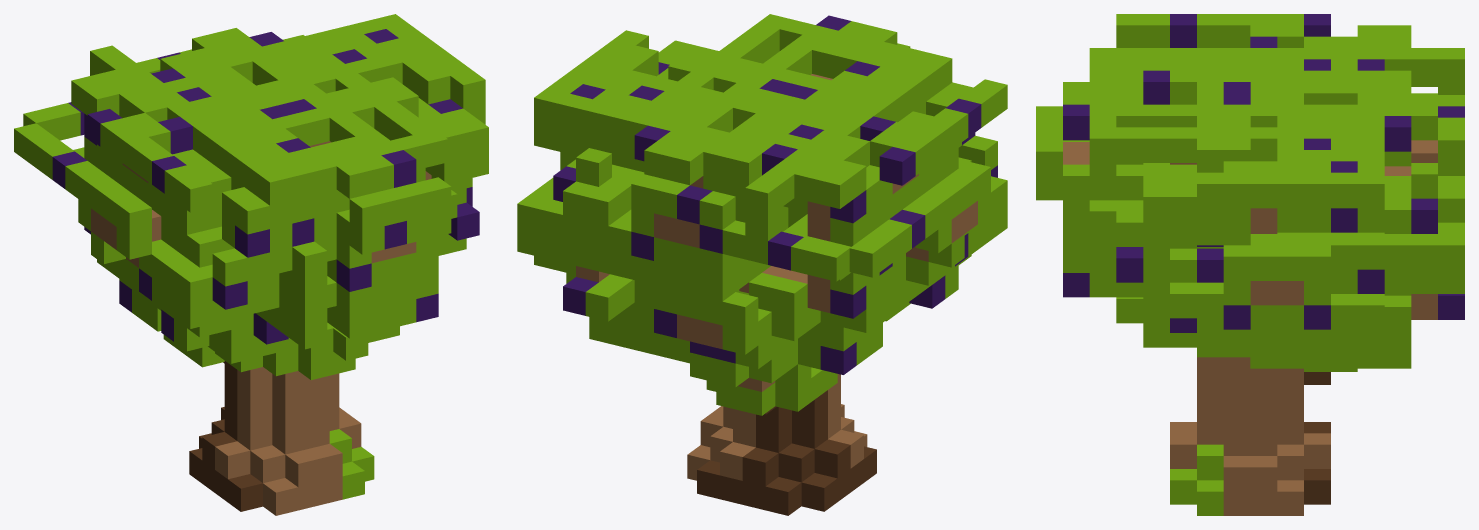
File: Sietecueros_Fabian_Andres_Cetina_Rabon_fase_3.obj
3 views of the same model, side by side, from view 1: azimuth 30°, elevation 25°; view 2: azimuth 150°, elevation 25°; view 3: azimuth 270°, elevation 25° (orthographic). The views are drawn at different scales.
Parts seen in each view (by area): view 1: Sietecueros_Fabian_Andres_Cetina_Rabon_fase_3; view 2: Sietecueros_Fabian_Andres_Cetina_Rabon_fase_3; view 3: Sietecueros_Fabian_Andres_Cetina_Rabon_fase_3.
Part boxes in pixels (x1=…): Sietecueros_Fabian_Andres_Cetina_Rabon_fase_3: x1=14, y1=14, x2=488, y2=515; Sietecueros_Fabian_Andres_Cetina_Rabon_fase_3: x1=517, y1=14, x2=1007, y2=515; Sietecueros_Fabian_Andres_Cetina_Rabon_fase_3: x1=1036, y1=14, x2=1464, y2=515.
Size of the model in its own units: 16 by 16 by 16.
